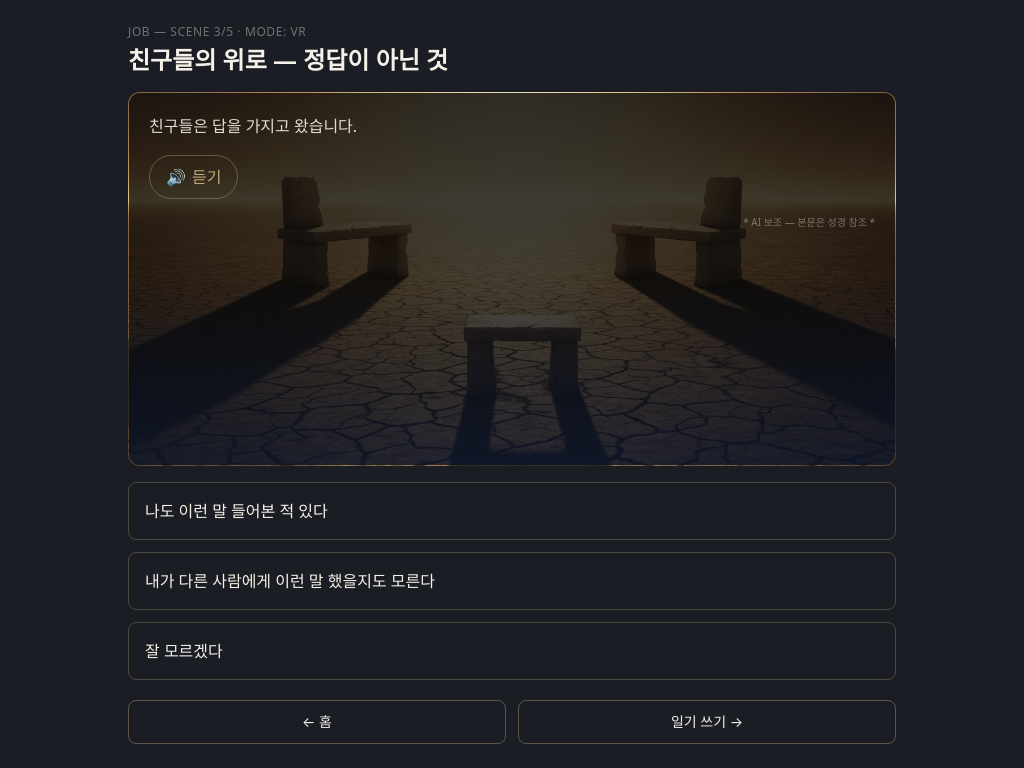
Test: 욥 미션 — 씬 상태 기계 › 응답 문구가 없는 선택지는 라벨만 되돌려 준다 — 빈 인용 상자를 만들지 않는다
The width and height of the screenshot is (1024, 768).
Click the button "잘 모르겠다" at (184, 651), box x1=128 y1=622 x2=896 y2=680
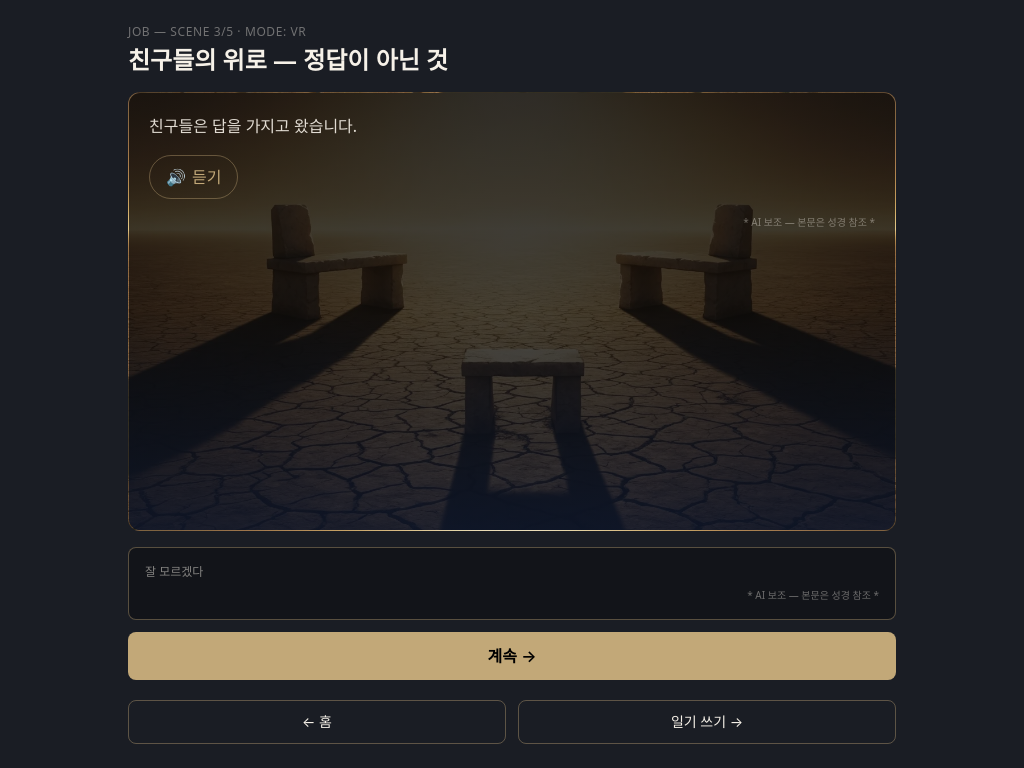
Expected: the text "잘 모르겠다" is shown, x1=145 y1=563 x2=203 y2=580
Expected: the button "계속 →" is enabled, x1=128 y1=632 x2=896 y2=680
